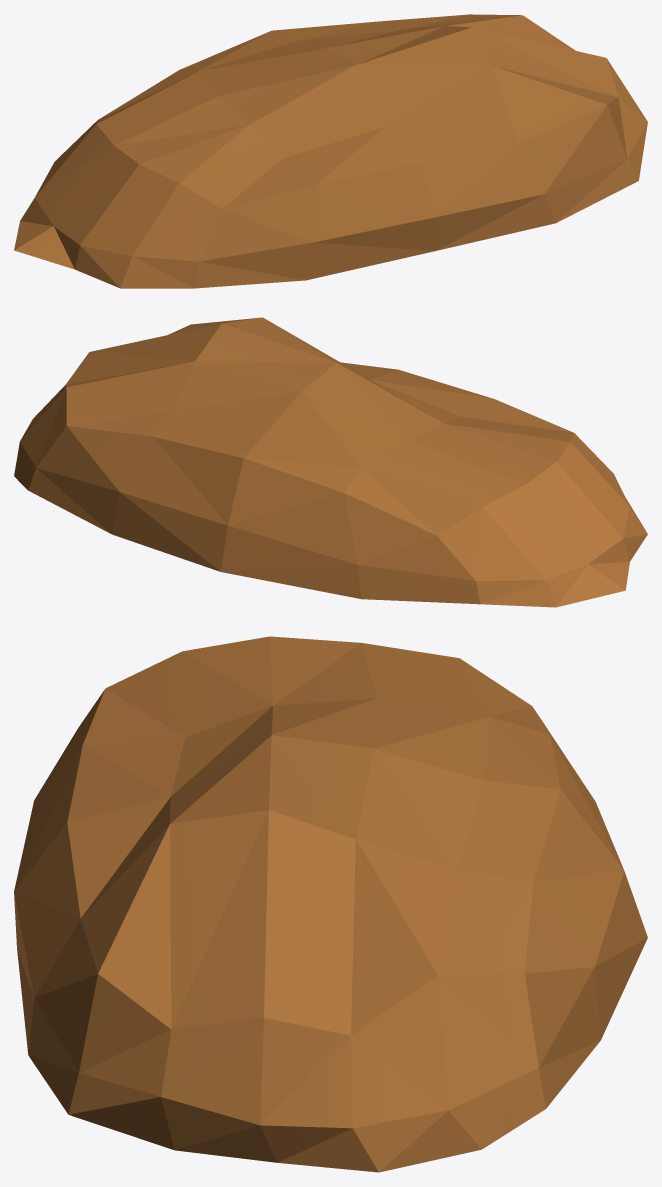
The model's file is Soil_Patch_02.fbx.
3 renders of one model, top to bottom at view 1: azimuth 30°, elevation 25°; view 2: azimuth 150°, elevation 25°; view 3: azimuth 270°, elevation 25°, orthographic. The views are drawn at different scales.
Visible parts, largest first — view 1: Soil_Patch_02; view 2: Soil_Patch_02; view 3: Soil_Patch_02.
Boxes of the visible parts, x1,y1,x2,y2 form: Soil_Patch_02: [14, 14, 647, 288]; Soil_Patch_02: [14, 317, 647, 607]; Soil_Patch_02: [14, 636, 647, 1172].
Bounding box in the file's own units: 2.8 × 0.6875 × 1.57.
